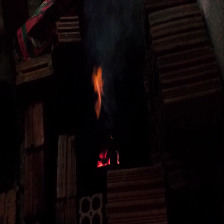fire_h: (92, 67, 104, 118)
fire_l: (97, 152, 110, 168), (116, 153, 119, 164)
